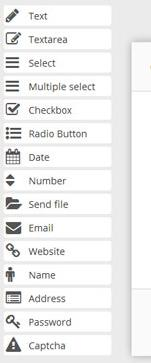button: (2, 4, 112, 27), (2, 28, 112, 51), (2, 52, 112, 75), (2, 75, 112, 98), (2, 98, 112, 121), (2, 122, 112, 145), (2, 145, 112, 168), (3, 169, 113, 192), (3, 192, 113, 215), (3, 216, 113, 239), (2, 240, 112, 263), (2, 263, 112, 286), (2, 286, 112, 309), (2, 310, 112, 333), (2, 334, 112, 357)
